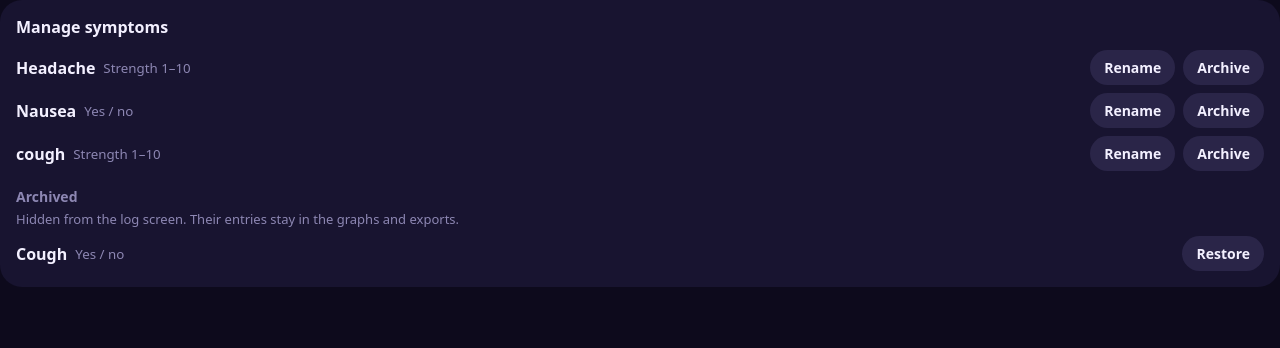
ManageSymptomsCard › will not restore a symptom while an active one has the same name
Check: the text "Headache" is shown, box [16, 56, 95, 78]
Click the button with aria-label "Restore Cough" at (1223, 254), box [1182, 236, 1264, 271]
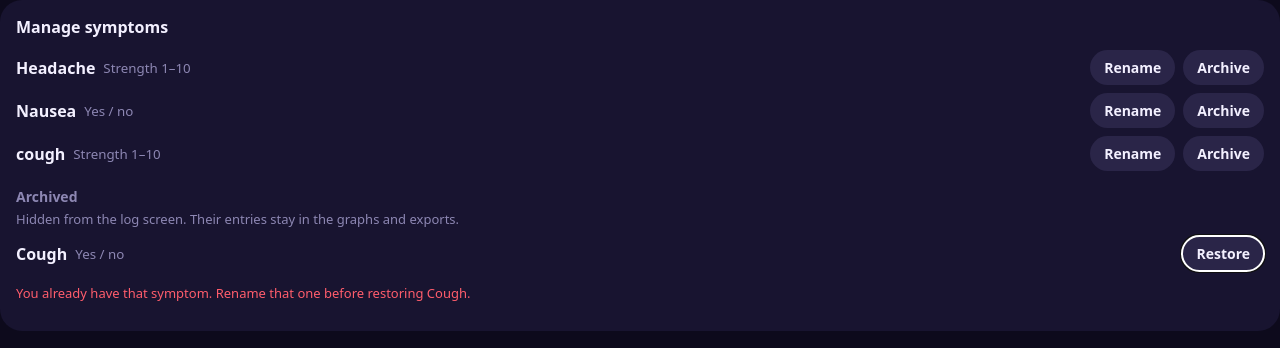
Check: the message shows "You already have that symptom.", box [16, 284, 470, 302]
